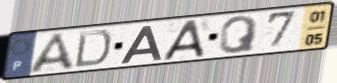7: (265, 9, 301, 51)
A: (26, 31, 78, 75), (161, 18, 207, 63), (118, 24, 164, 65)
D: (72, 28, 113, 69)
Q: (218, 14, 261, 55)
